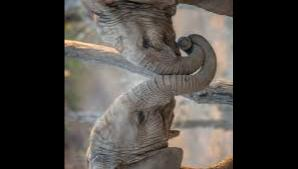Non_Gorille: (67, 0, 222, 169)
